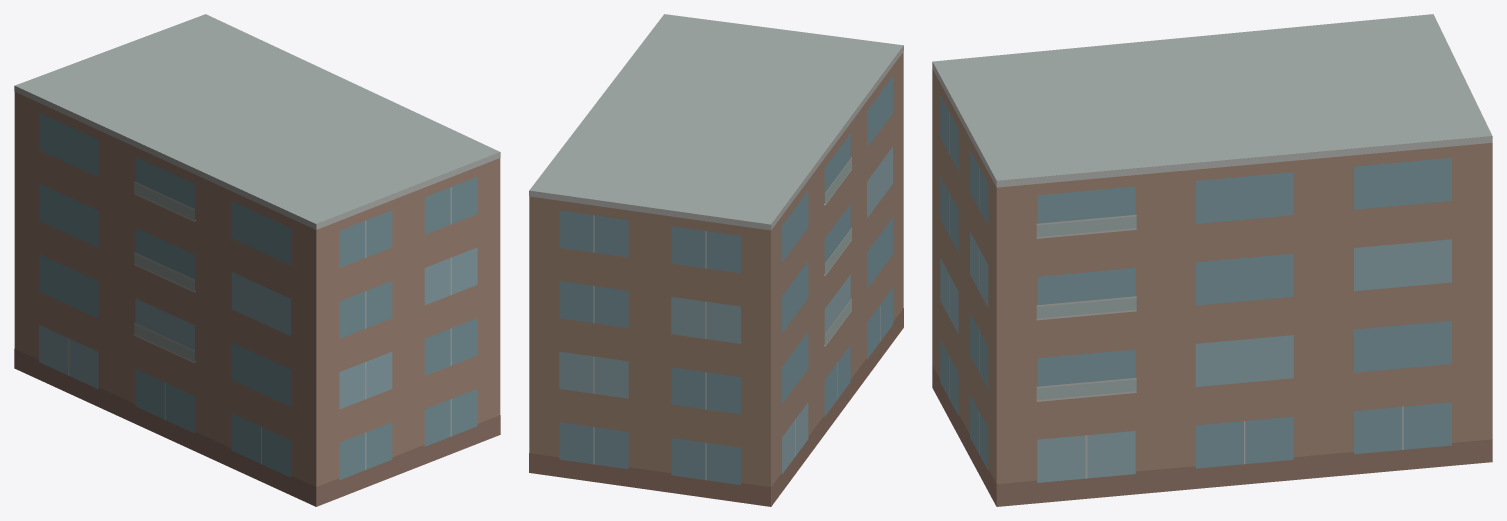
File: survey-upis-32489970.glb
3 views of the same model, side by side, from view 1: azimuth 30°, elevation 25°; view 2: azimuth 150°, elevation 25°; view 3: azimuth 270°, elevation 25° (orthographic). The views are drawn at different scales.
Visible parts, largest first — view 1: survey-upis-32489970.tmp; view 2: survey-upis-32489970.tmp; view 3: survey-upis-32489970.tmp.
Part boxes in pixels (x1,y1,x2,y2): survey-upis-32489970.tmp: (14, 14, 500, 506); survey-upis-32489970.tmp: (529, 14, 903, 506); survey-upis-32489970.tmp: (932, 14, 1492, 506).
Bounding box in the file's own units: 12.85 × 11.7 × 18.23.
